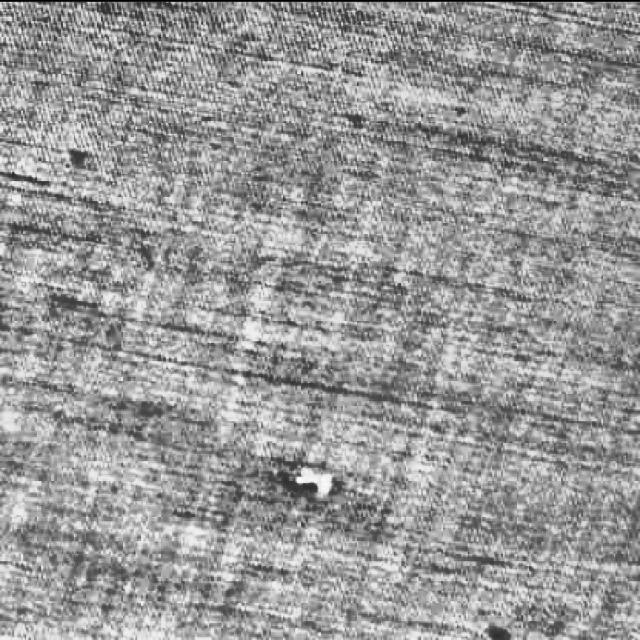hole: (282, 457, 344, 502)
